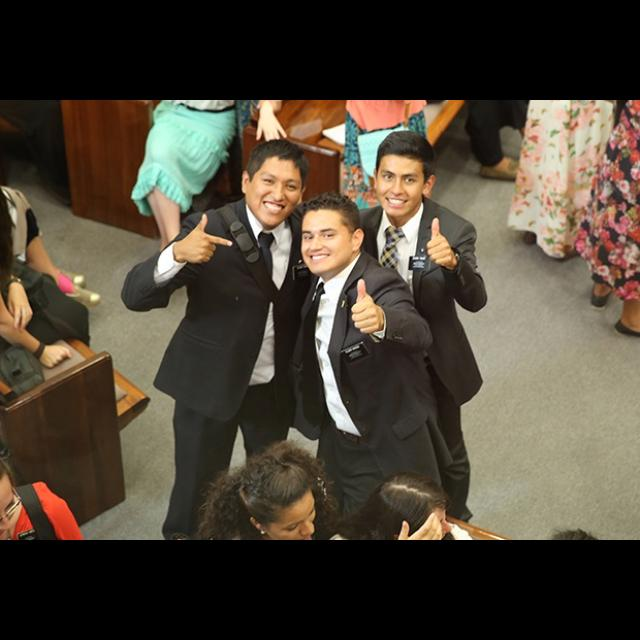head: (242, 141, 308, 229), (372, 132, 438, 220), (301, 202, 365, 278)
